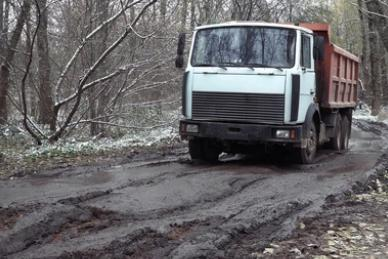vehicle: (176, 21, 360, 164)
